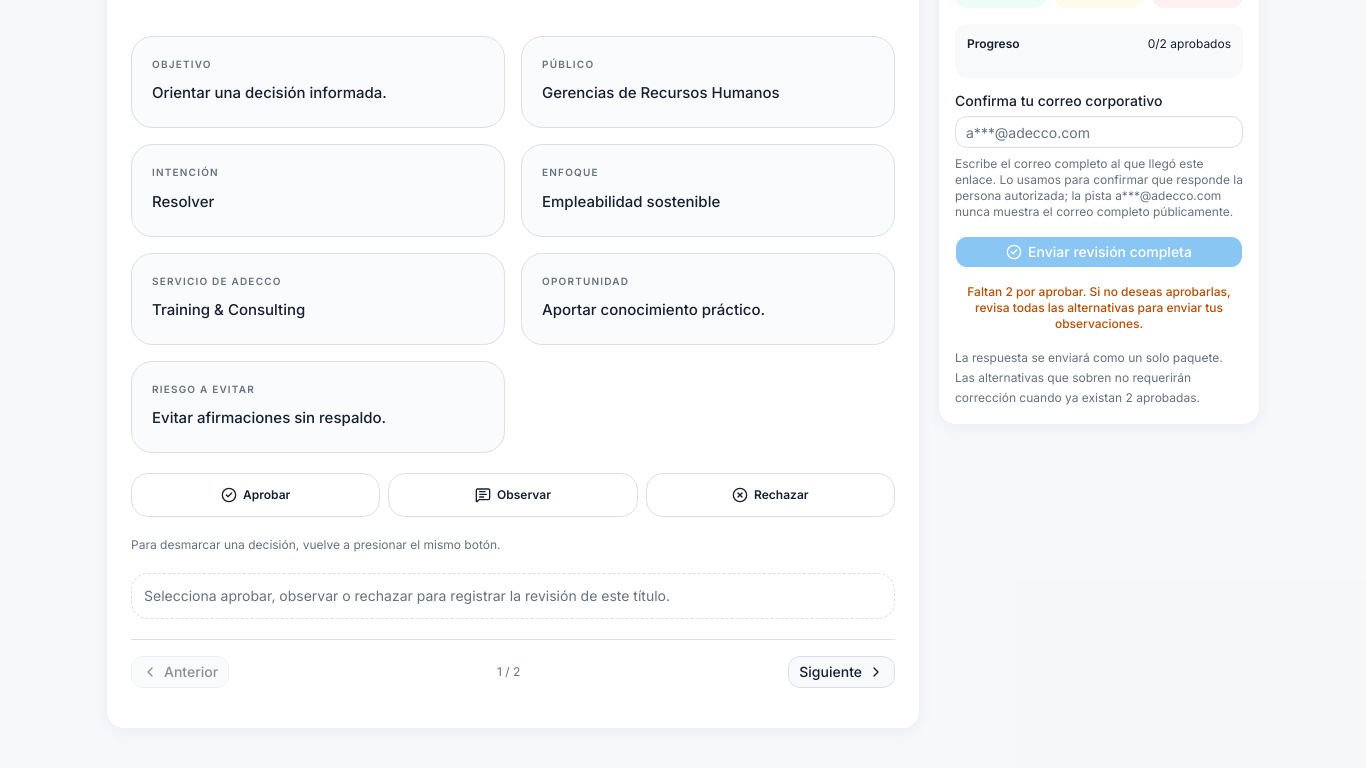
Scenario: TitlePackageReviewPortal › desmarca una decisión al volver a presionar el mismo botón
(page scrolled)
Click the button "Aprobar": x=256, y=495 [131,473,380,517]
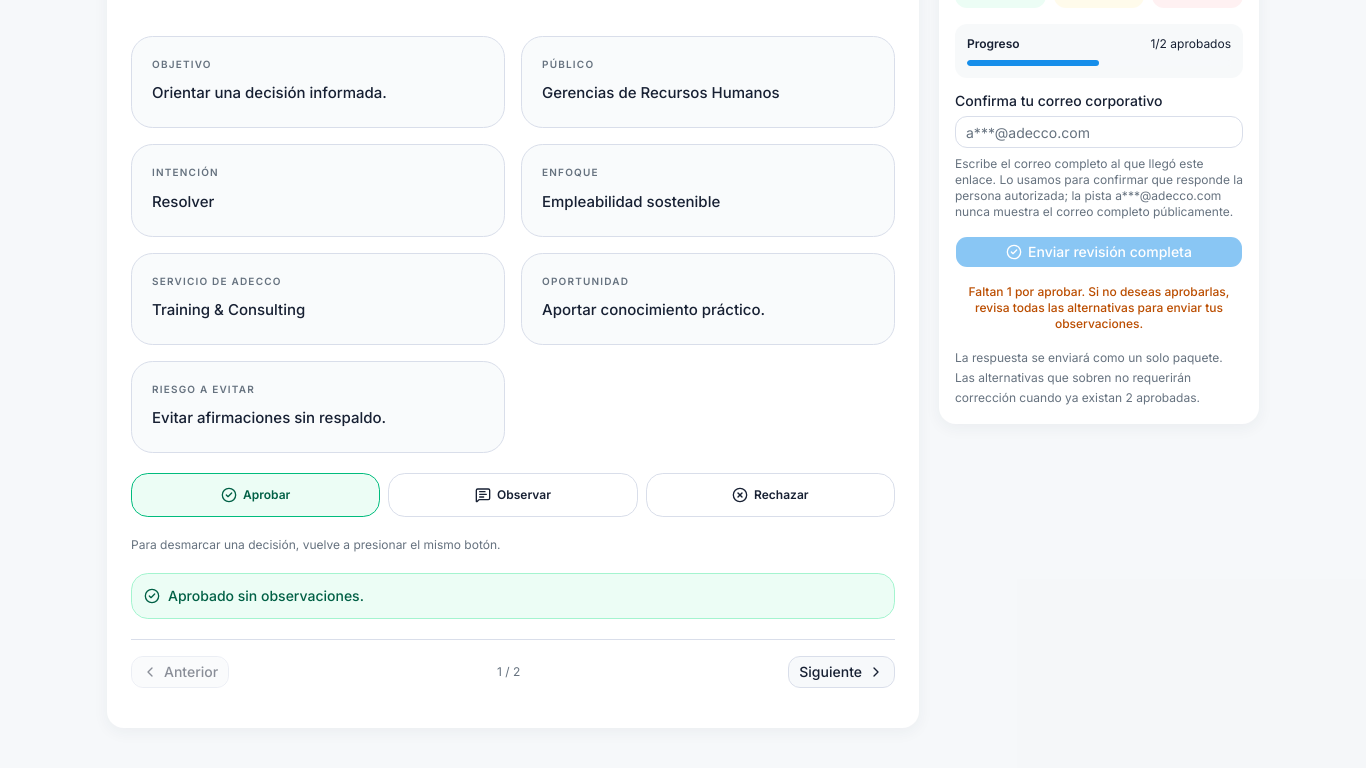
Check: the button "Aprobar" is pressed
Click the button "Aprobar": x=256, y=495 [131,473,380,517]
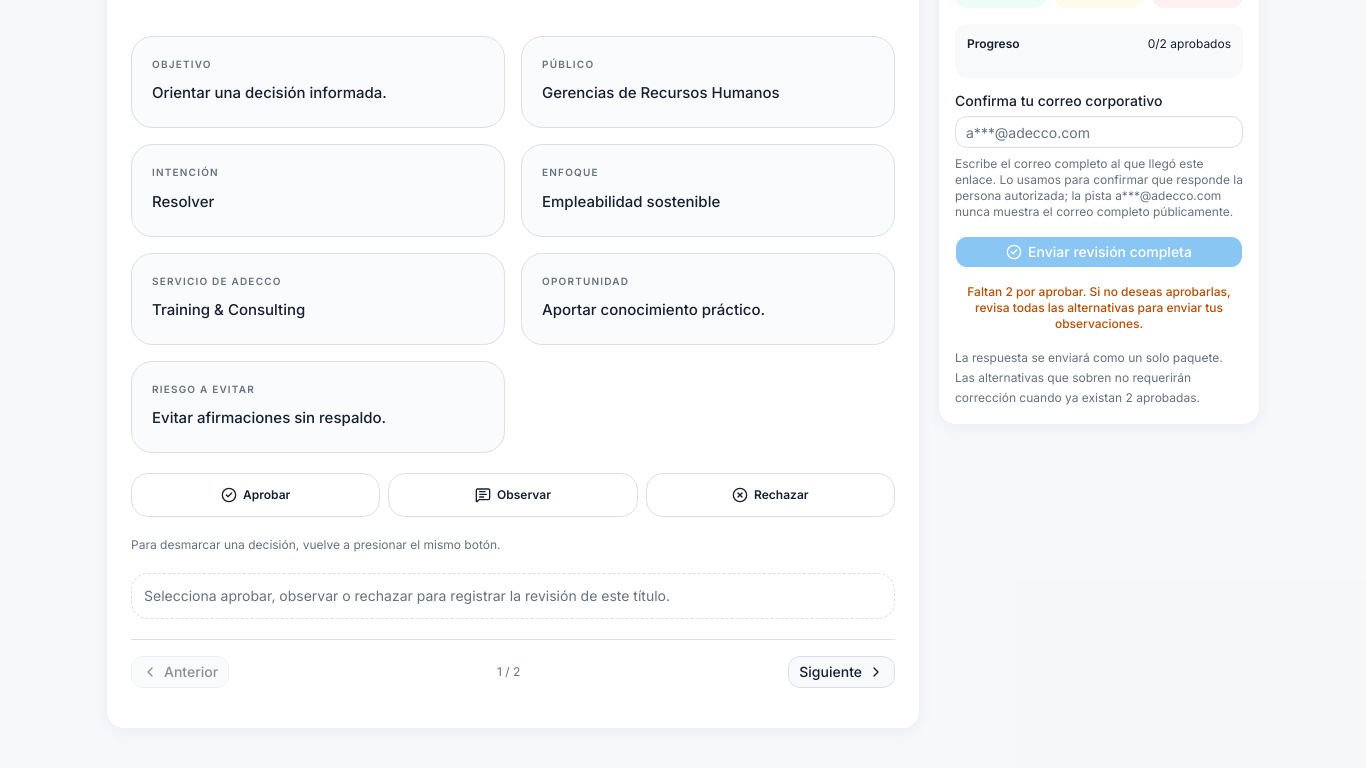
Check: the text "Selecciona aprobar, observar o rechazar" is shown, box [144,587,670,604]
